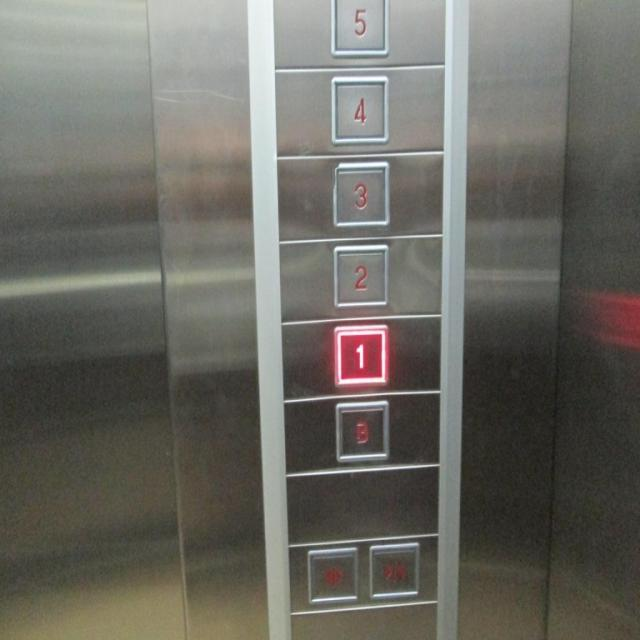1: (332, 321, 388, 386)
2: (332, 240, 389, 309)
3: (330, 158, 390, 228)
4: (329, 73, 388, 144)
5: (327, 0, 390, 58)
B: (333, 398, 391, 462)
close: (368, 544, 418, 597)
open: (306, 546, 358, 605)
